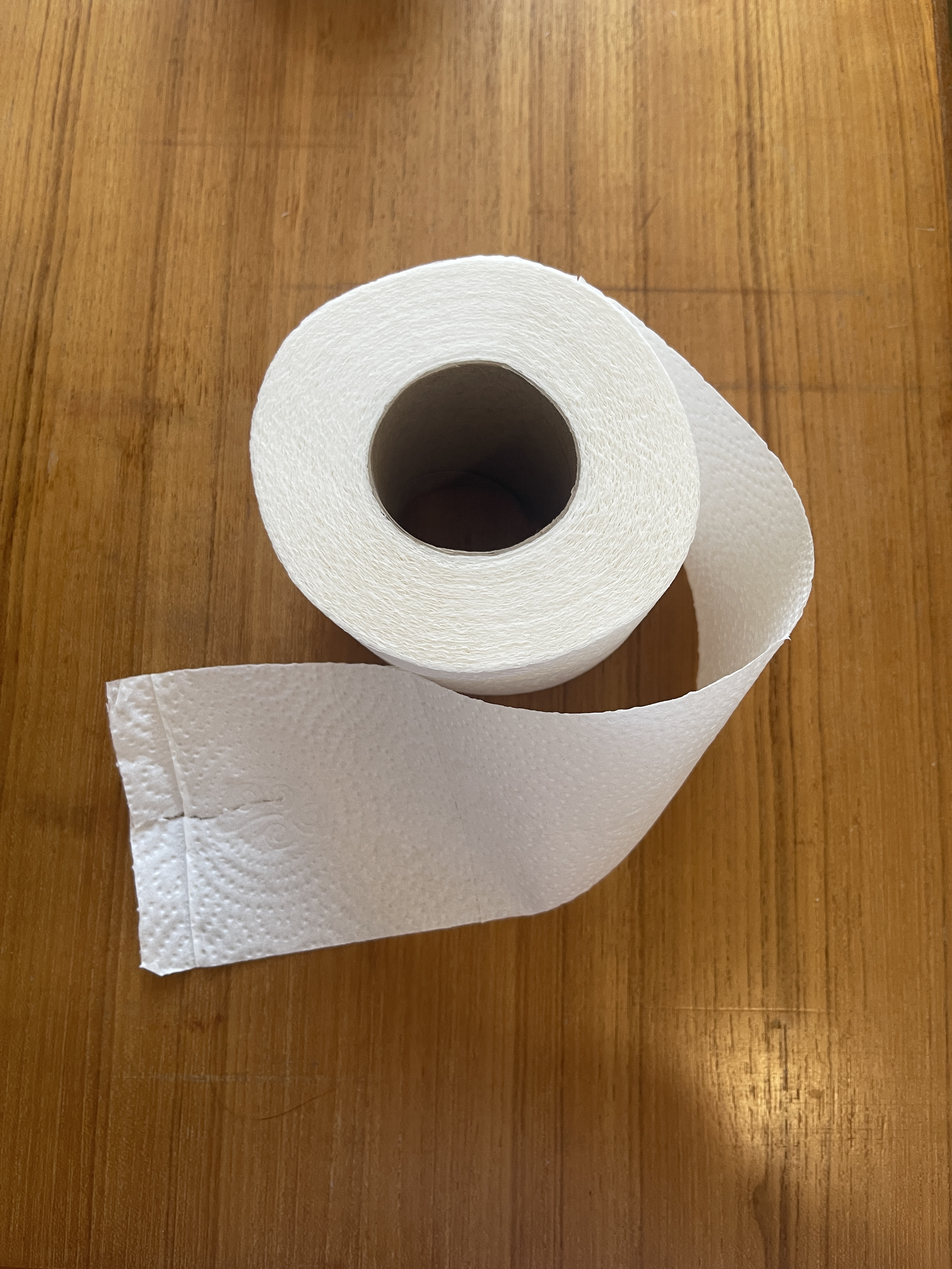paper: (100, 247, 822, 980)
